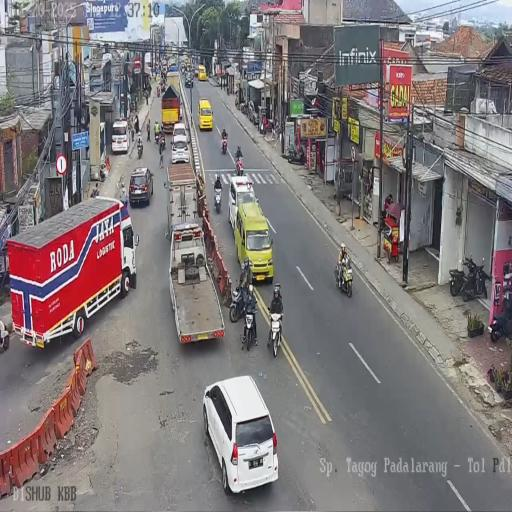3: (165, 162, 200, 238), (161, 84, 180, 133), (168, 56, 178, 72), (160, 57, 169, 73), (183, 55, 189, 70)
car: (202, 374, 280, 493), (235, 201, 273, 282), (128, 166, 154, 208), (112, 119, 130, 154), (171, 137, 189, 165), (198, 98, 213, 131), (198, 64, 206, 81), (185, 72, 193, 88), (194, 65, 199, 77)
truck: (449, 254, 488, 302), (229, 282, 254, 324), (488, 299, 512, 342), (267, 311, 284, 358), (335, 257, 353, 298), (285, 143, 304, 165), (213, 183, 222, 213), (235, 154, 244, 176), (221, 135, 228, 154), (137, 140, 143, 160), (276, 120, 282, 140), (253, 112, 260, 128), (155, 129, 161, 145), (240, 100, 245, 115), (161, 80, 166, 94), (157, 85, 160, 98)
